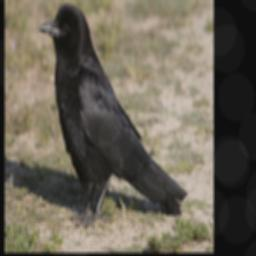Crow: (37, 2, 188, 229)
